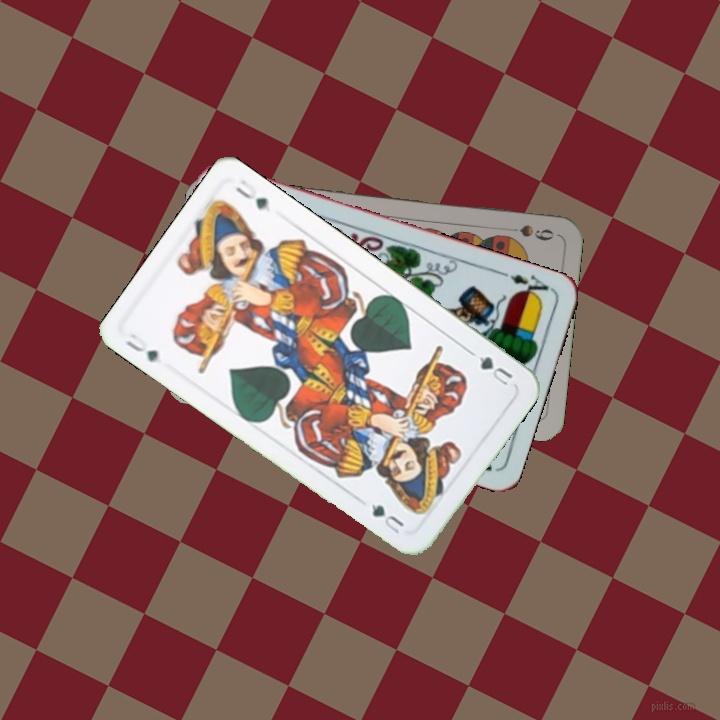EA: (506, 270, 554, 302)
GU: (466, 347, 516, 389), (120, 329, 161, 365)
S9: (503, 221, 557, 243)
